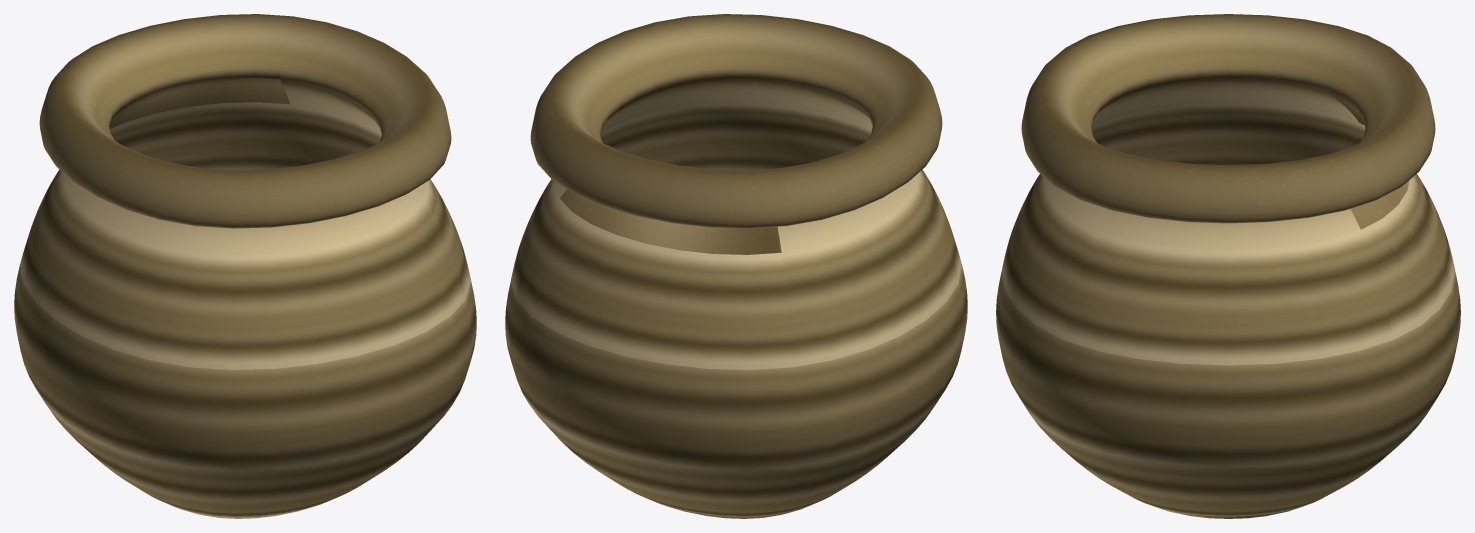
The model's file is Pot.fbx.
3 views of the same model, side by side, from view 1: azimuth 30°, elevation 25°; view 2: azimuth 150°, elevation 25°; view 3: azimuth 270°, elevation 25° (orthographic).
Parts seen in each view (by area): view 1: Cube; view 2: Cube; view 3: Cube.
Part boxes in pixels (bbox=[...]): Cube: bbox=[14, 14, 476, 518]; Cube: bbox=[505, 14, 967, 518]; Cube: bbox=[996, 14, 1460, 518].
Bounding box in the file's own units: 413 × 398 × 424.
